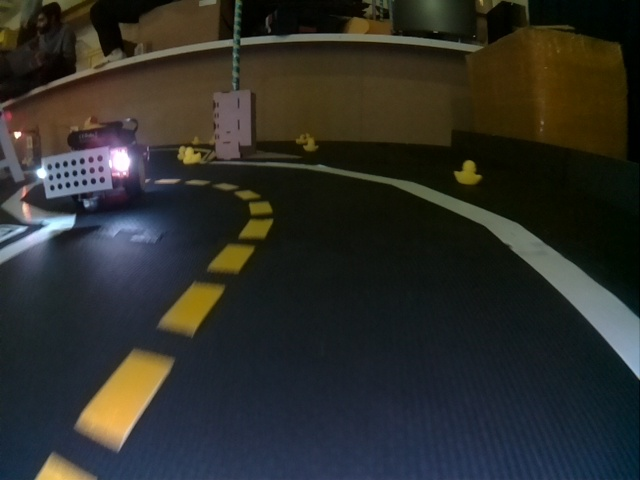Duckie: (456, 160, 477, 184), (183, 148, 201, 164), (304, 139, 317, 149)
Duckiebot: (40, 126, 146, 205)
